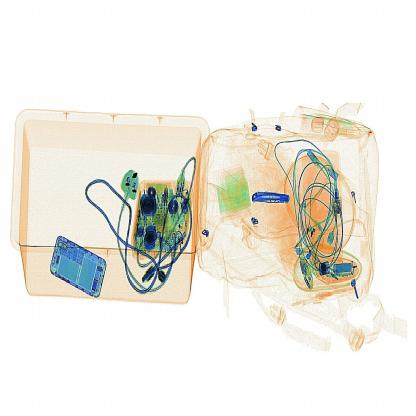knife: (245, 178, 294, 212)
